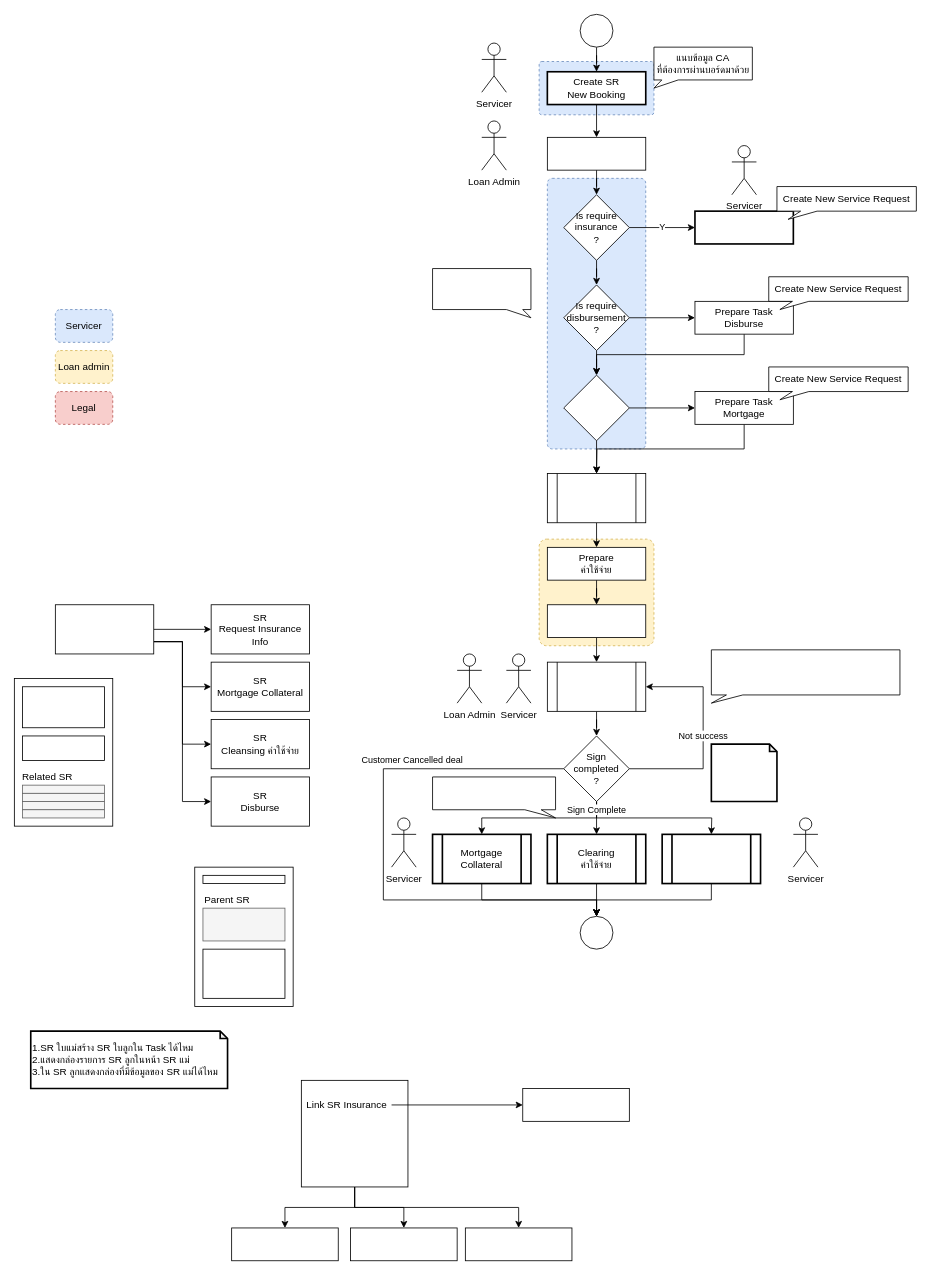
Image size: 931x1275. Some labels were removed from this diagram. The shapes that lost their labels are listed below. From the top down, each one's centre as x and y in pixels, then its label:
(x=596, y=30): Start
(x=596, y=153): Create Data in Facility Management
(x=744, y=227): Create SR Request Insurance Info
(x=481, y=293): Disburse ในกระบวนการภายใต้ SR New Booking นี้
(x=596, y=407): Is require mortgage ?
(x=596, y=498): Prepare Draft Contract
(x=104, y=629): SR New Booking
(x=596, y=621): จัดเตรียมเอกสารต่างๆ (รวบรวมเอกสาร)
(x=596, y=686): Sign Contract
(x=805, y=676): มีสองส่วน 1.แจ้งผลการลงนาม 2.ตรวจสอบการลงนาม (โดย Loan Admin)
(x=743, y=772): Tee review
(x=494, y=797): 1.แจ้ง Insurance (ถ้ามี) 2.แจ้ง Loan Oper
(x=711, y=858): Disburse
(x=596, y=932): End
